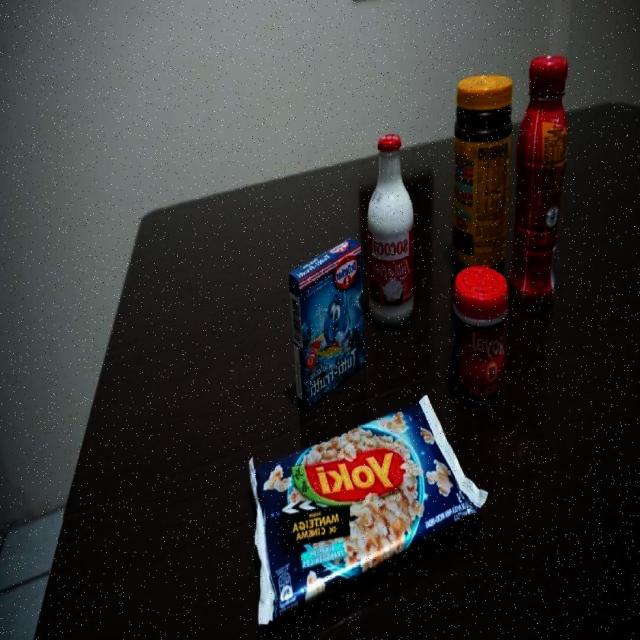ChocolateMilk: (508, 51, 571, 310)
ChocolatePowder: (448, 71, 513, 275)
CoconutMilk: (368, 134, 418, 333)
Gelatine: (286, 237, 368, 410)
Popcorn: (244, 392, 488, 625)
Yeast: (447, 262, 509, 405)
